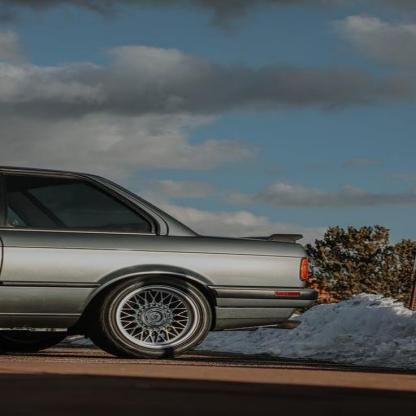Tire: (84, 270, 213, 360)
